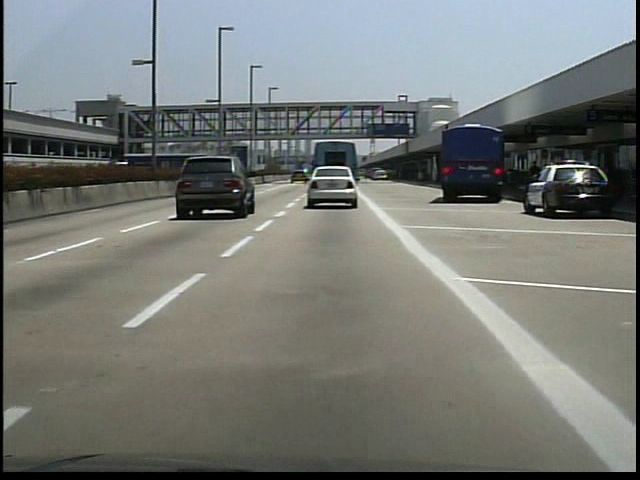person: (526, 154, 546, 200)
